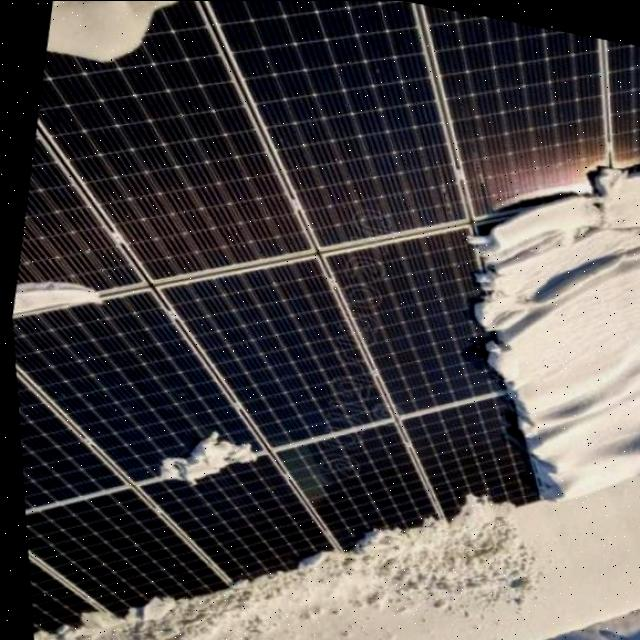Anomaly Solar Panel: (8, 0, 640, 640)
Snow: (24, 484, 514, 640), (464, 175, 640, 507), (45, 0, 294, 103), (145, 419, 257, 503), (8, 274, 98, 343), (414, 2, 470, 18)
